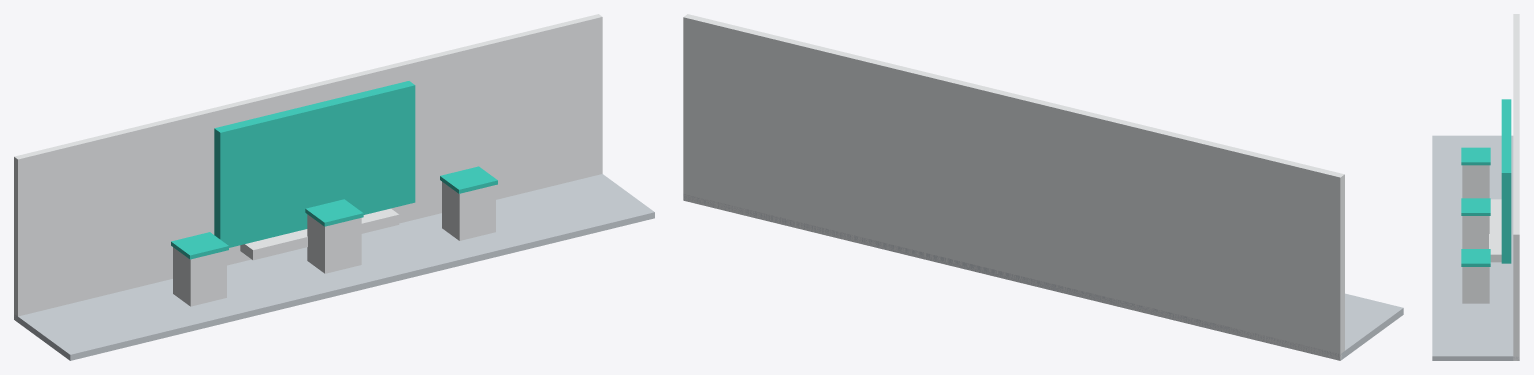
3 renders of one model, left to right at view 1: azimuth 30°, elevation 25°; view 2: azimuth 150°, elevation 25°; view 3: azimuth 270°, elevation 25°, orthographic. The views are drawn at different scales.
Parts seen in each view (by area): view 1: Exhibition Booth Concept; view 2: Exhibition Booth Concept; view 3: Exhibition Booth Concept.
Boxes of the visible parts, x1,y1,x2,y2 form: Exhibition Booth Concept: [14, 14, 654, 360]; Exhibition Booth Concept: [683, 14, 1403, 360]; Exhibition Booth Concept: [1432, 14, 1519, 360].
Bounding box in the file's own units: 12 × 3.2 × 2.
